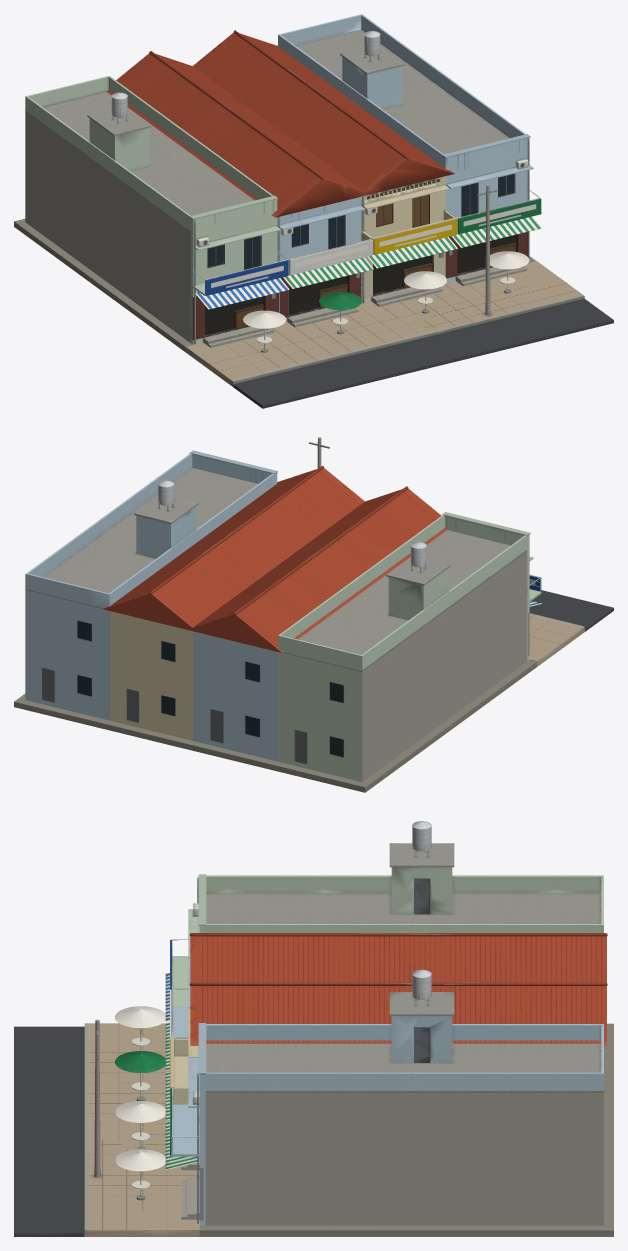
Rendered from quang_trung_12_18.glb.
The picture shows the model from 3 angles, top to bottom: view 1: azimuth 30°, elevation 25°; view 2: azimuth 150°, elevation 25°; view 3: azimuth 270°, elevation 25°; orthographic projection. The views are drawn at different scales.
Visible parts, largest first — view 1: quang_trung_12_18; view 2: quang_trung_12_18; view 3: quang_trung_12_18.
Part boxes in pixels (x1=…): quang_trung_12_18: x1=14, y1=14, x2=613, y2=408; quang_trung_12_18: x1=14, y1=437, x2=613, y2=792; quang_trung_12_18: x1=14, y1=821, x2=613, y2=1236.
Bounding box in the file's own units: 24.2 × 12.19 × 29.68.
Materials: 13 (13 with a texture image).
